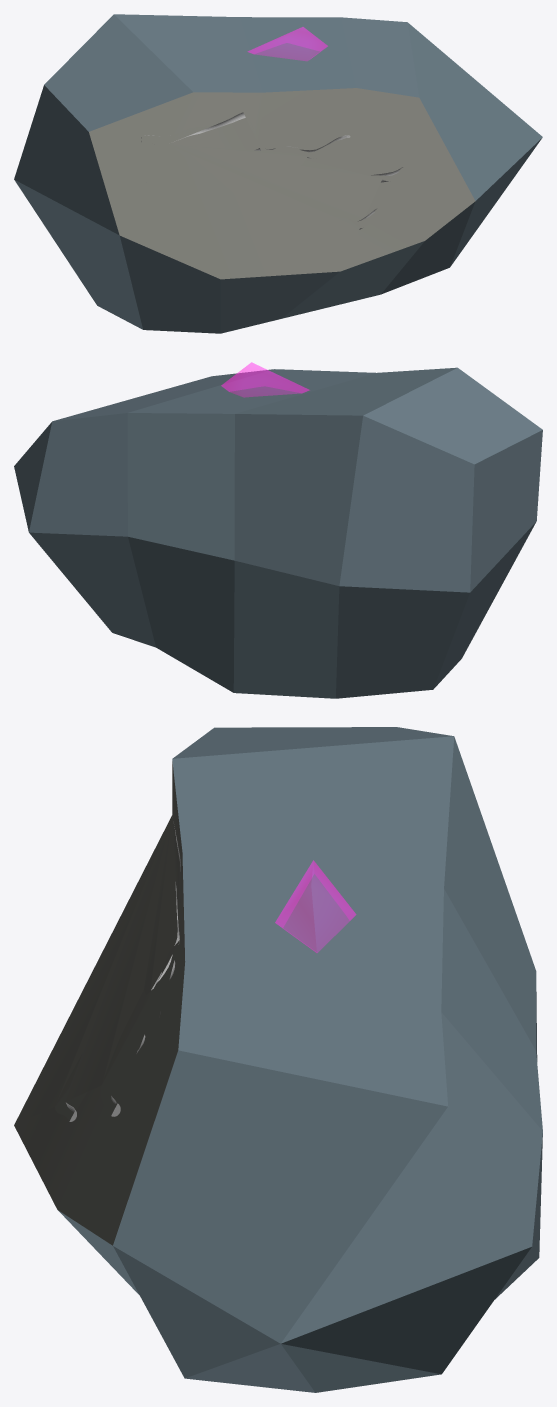
Rendered from Artefact1.fbx.
The picture shows the model from 3 angles, top to bottom: view 1: azimuth 30°, elevation 25°; view 2: azimuth 150°, elevation 25°; view 3: azimuth 270°, elevation 25°; orthographic projection. The views are drawn at different scales.
Visible parts, largest first — view 1: pCube4, pCube5; view 2: pCube4, pCube5; view 3: pCube4, pCube5.
Boxes of the visible parts, x1,y1,x2,y2 form: pCube4: (14, 14, 542, 333); pCube5: (247, 27, 327, 60); pCube4: (14, 367, 542, 698); pCube5: (221, 362, 309, 397); pCube4: (14, 727, 542, 1392); pCube5: (275, 860, 356, 952).
Bounding box in the file's own units: 9.82 × 5.78 × 5.61.
